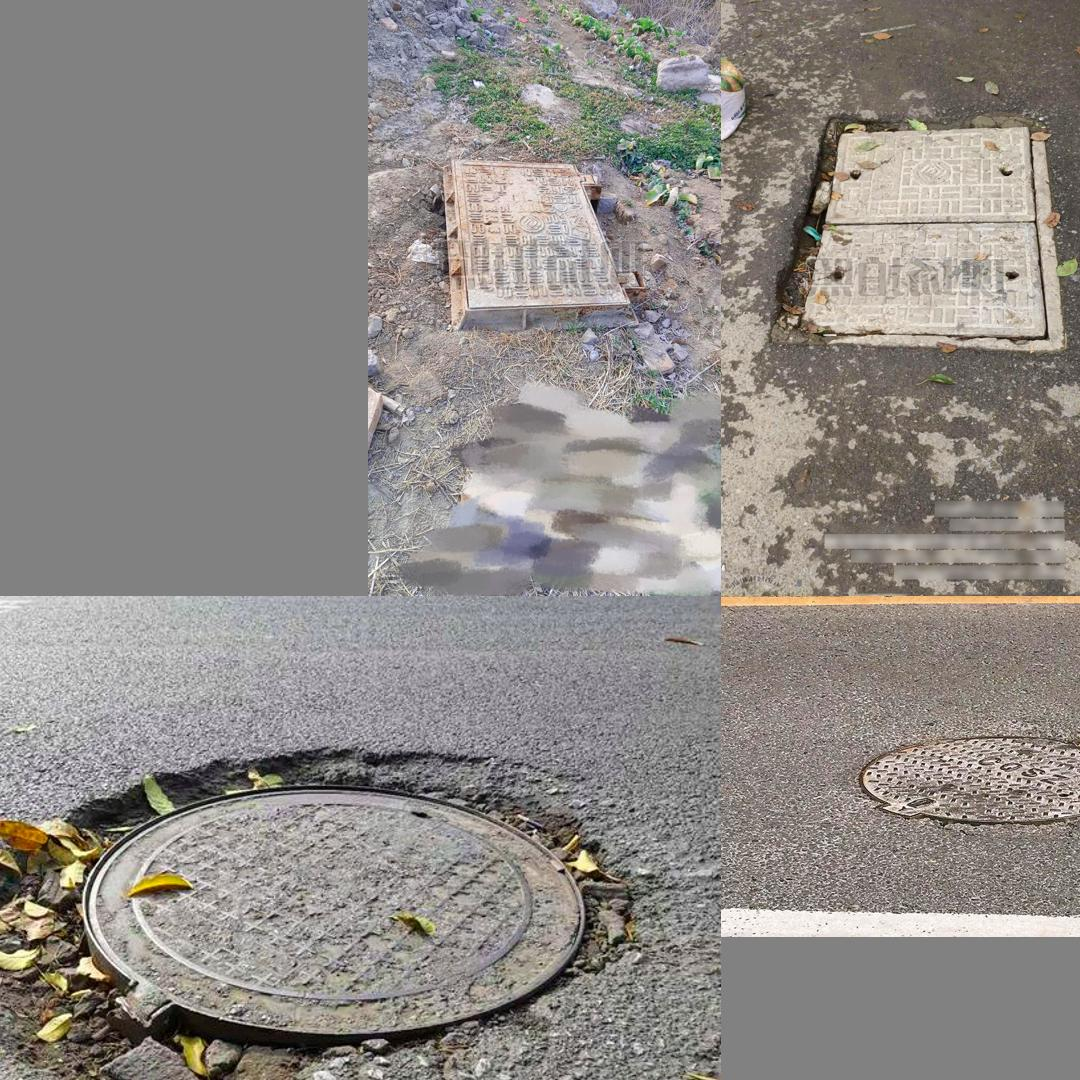circle: (0, 746, 701, 1080), (767, 116, 1060, 350), (435, 154, 646, 335), (853, 730, 1080, 836)
